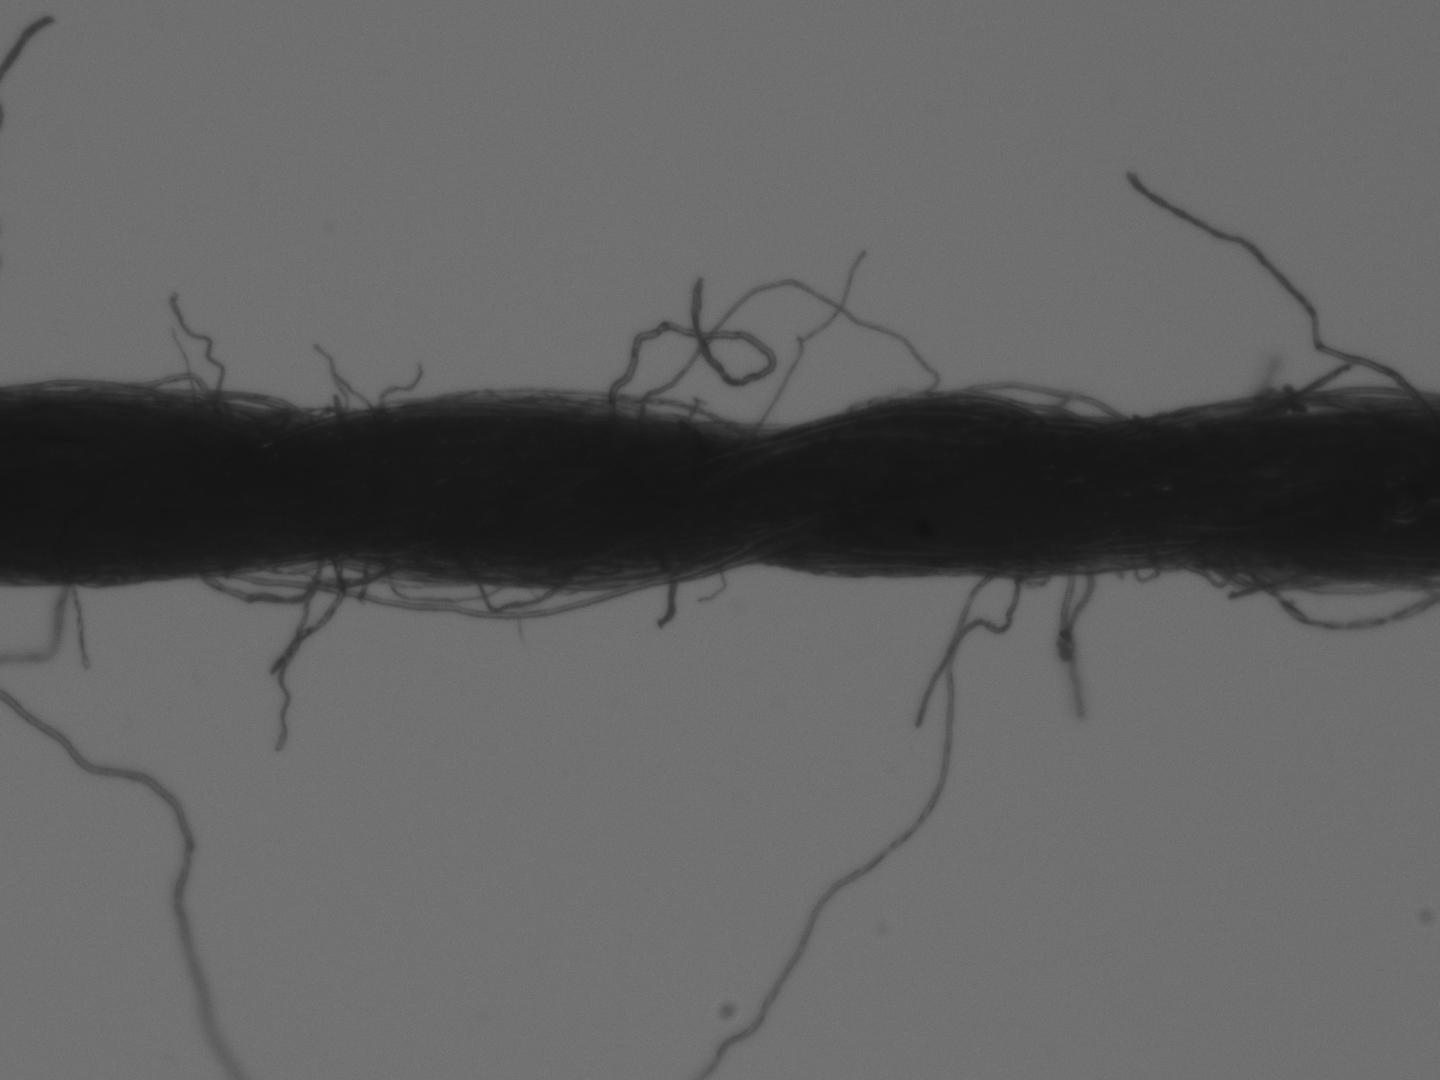loop_fiber: (629, 272, 945, 450), (1231, 565, 1439, 635), (933, 376, 1133, 432), (183, 547, 331, 611), (458, 552, 583, 619), (113, 366, 228, 415), (1050, 555, 1099, 664), (295, 551, 393, 593), (1121, 546, 1163, 589)
protruding_fiber: (1120, 170, 1432, 412), (649, 554, 692, 634)
